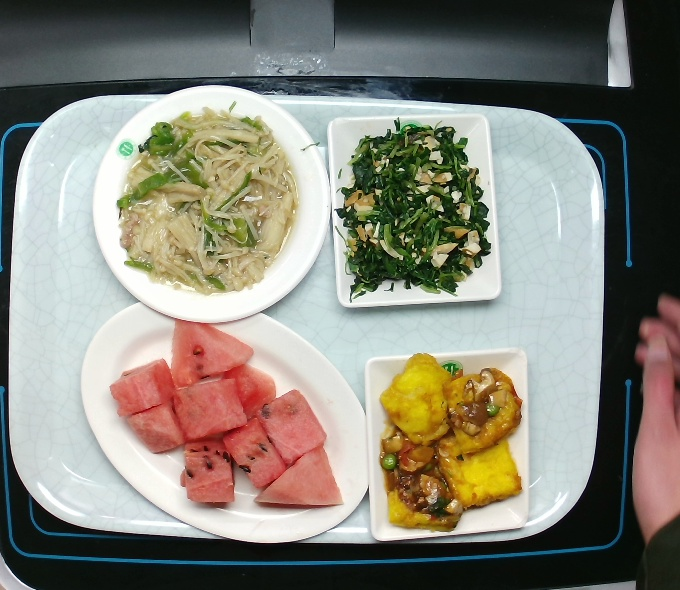wcq-CuiPiDouFu: (375, 349, 526, 534)
wcq-JinZhenGu: (114, 103, 303, 298)
wcq-MaLanTouChaoDouGan: (331, 115, 496, 304)
wcq-XiGua: (105, 311, 349, 512)
